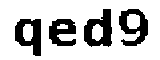9: (115, 7, 152, 51)
d: (81, 6, 115, 51)
e: (47, 17, 79, 53)
q: (9, 15, 45, 60)
